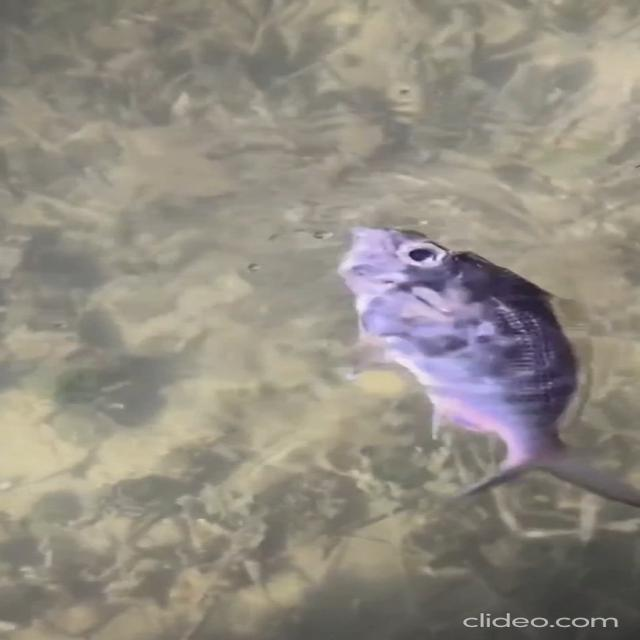fish: (335, 208, 640, 555)
